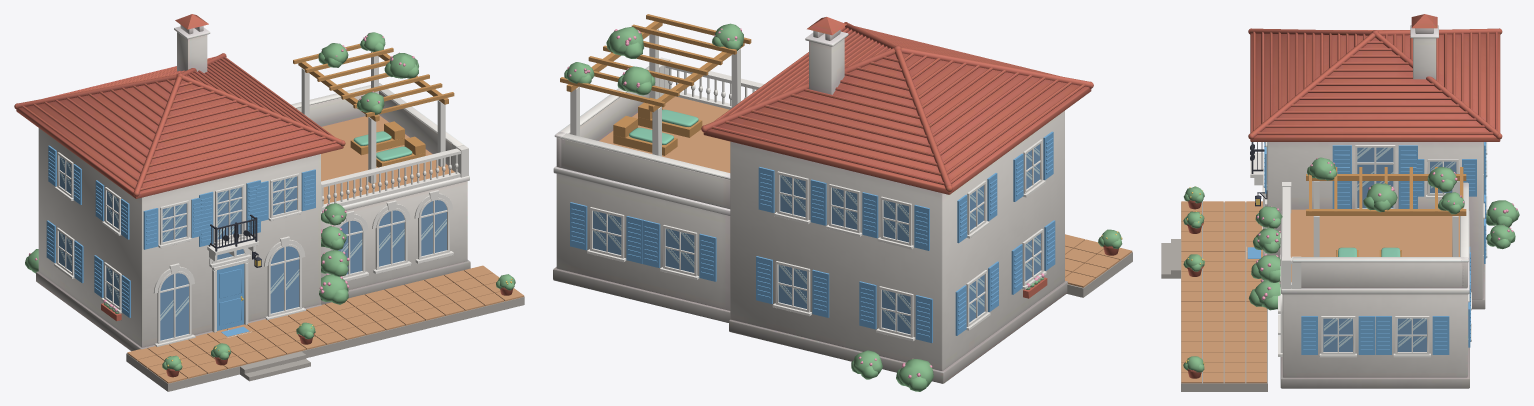
The model's file is mediterranean-villa.glb.
3 views of the same model, side by side, from view 1: azimuth 30°, elevation 25°; view 2: azimuth 150°, elevation 25°; view 3: azimuth 270°, elevation 25° (orthographic). The views are drawn at different scales.
Visible parts, largest first — view 1: mediterranean-villa_body, mediterranean-villa_details, mediterranean-villa_details_flat, mediterranean-villa_plants, mediterranean-villa_glints, mediterranean-villa_door_l, mediterranean-villa_frame, mediterranean-villa; view 2: mediterranean-villa_body, mediterranean-villa_details, mediterranean-villa_details_flat, mediterranean-villa_plants, mediterranean-villa_glints, mediterranean-villa; view 3: mediterranean-villa_body, mediterranean-villa_details, mediterranean-villa_details_flat, mediterranean-villa_plants, mediterranean-villa_glints, mediterranean-villa.
Boxes of the visible parts, <box> form: mediterranean-villa_body: <box>14,14,470,351</box>; mediterranean-villa_details: <box>54,51,524,391</box>; mediterranean-villa_details_flat: <box>46,43,524,383</box>; mediterranean-villa_plants: <box>25,32,515,370</box>; mediterranean-villa_glints: <box>59,156,446,320</box>; mediterranean-villa_door_l: <box>217,264,244,330</box>; mediterranean-villa_frame: <box>212,259,248,332</box>; mediterranean-villa: <box>353,131,412,161</box>; mediterranean-villa_body: <box>553,17,1093,383</box>; mediterranean-villa_details: <box>566,21,1132,341</box>; mediterranean-villa_details_flat: <box>560,14,1132,343</box>; mediterranean-villa_plants: <box>564,23,1122,391</box>; mediterranean-villa_glints: <box>593,147,1040,329</box>; mediterranean-villa: <box>629,109,698,144</box>; mediterranean-villa_body: <box>1248,14,1502,388</box>; mediterranean-villa_details: <box>1161,142,1487,391</box>; mediterranean-villa_details_flat: <box>1181,142,1486,383</box>; mediterranean-villa_plants: <box>1183,157,1519,372</box>; mediterranean-villa_glints: <box>1324,147,1455,347</box>; mediterranean-villa: <box>1338,247,1400,256</box>.
Bounding box in the file's own units: 13.92 × 9.6 × 11.62.
Materials: 18 (1 with a texture image).
